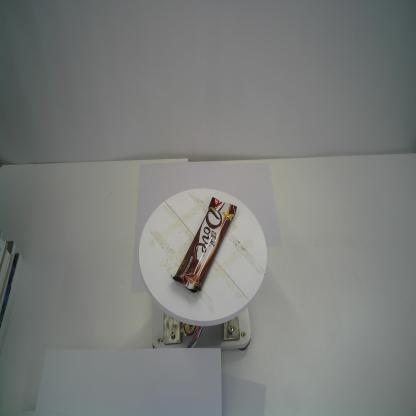Chocolate: (170, 195, 238, 294)
